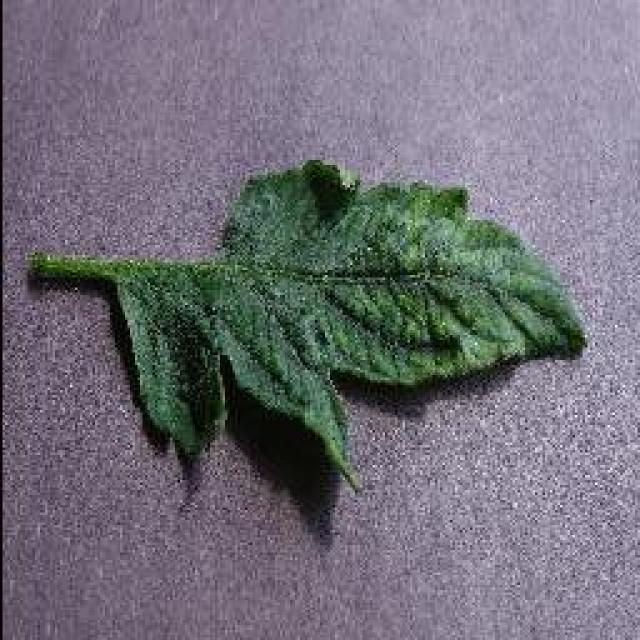Tomato___Tomato_mosaic_virus: (30, 160, 582, 488)
